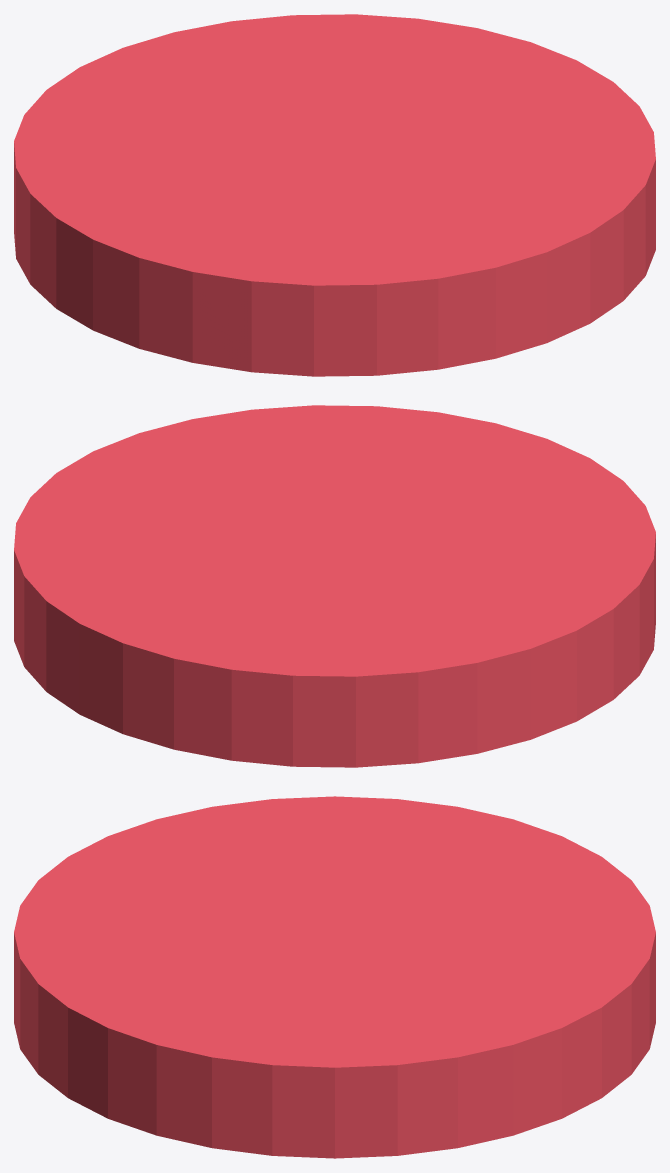
File: meat.glb
3 views of the same model, one above another, from view 1: azimuth 30°, elevation 25°; view 2: azimuth 150°, elevation 25°; view 3: azimuth 270°, elevation 25° (orthographic).
Parts seen in each view (by area): view 1: Cylinder; view 2: Cylinder; view 3: Cylinder.
Boxes of the visible parts, x1,y1,x2,y2 form: Cylinder: (14, 14, 655, 376); Cylinder: (14, 405, 655, 767); Cylinder: (14, 796, 655, 1158).
Size of the model in its own units: 2 by 0.3121 by 2.
